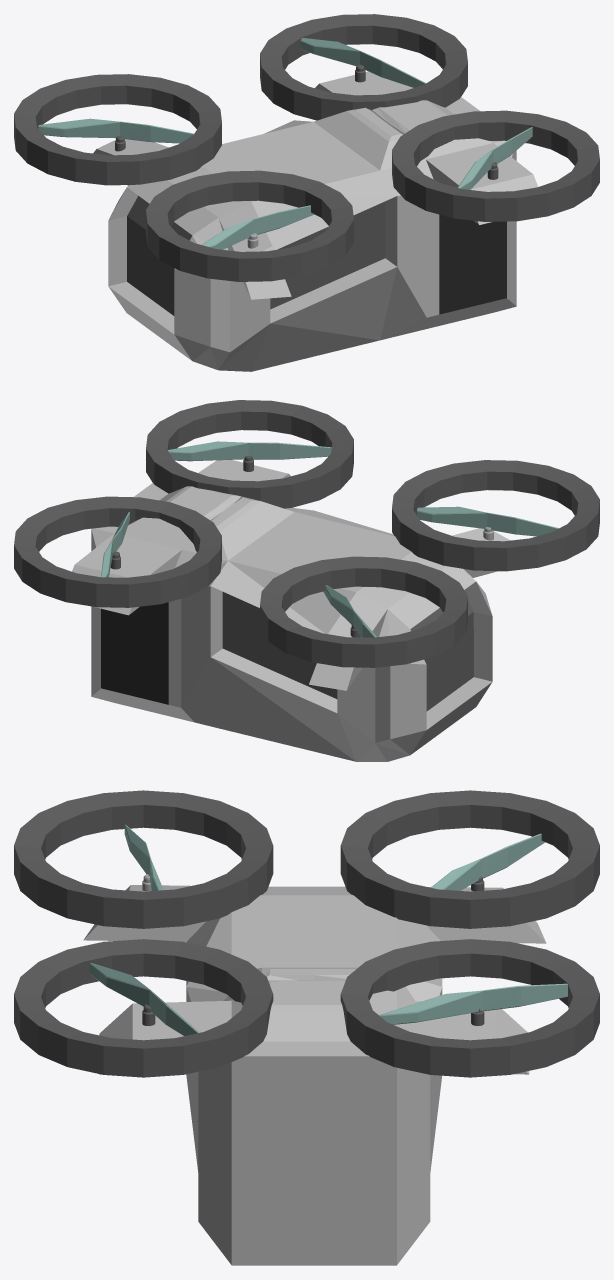
File: Drone.fbx
3 renders of one model, top to bottom at view 1: azimuth 30°, elevation 25°; view 2: azimuth 150°, elevation 25°; view 3: azimuth 270°, elevation 25°, orthographic. The views are drawn at different scales.
Parts seen in each view (by area): view 1: pCylinder266; view 2: pCylinder266; view 3: pCylinder266.
Part boxes in pixels (left/top/right/bottom): pCylinder266: left=14, top=14, right=599, bottom=371; pCylinder266: left=14, top=400, right=599, bottom=761; pCylinder266: left=14, top=790, right=599, bottom=1265.
Bounding box in the file's own units: 137 × 59.86 × 131.
